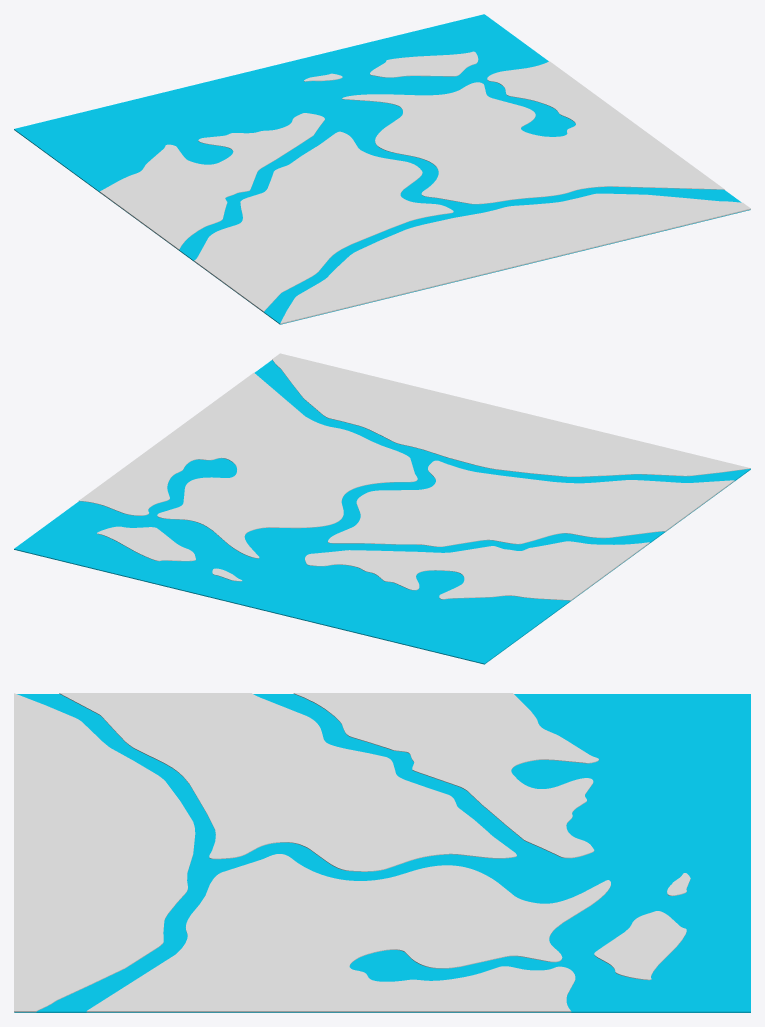
Rendered from coast-v2.gltf.
3 views of the same model, one above another, from view 1: azimuth 30°, elevation 25°; view 2: azimuth 150°, elevation 25°; view 3: azimuth 270°, elevation 25° (orthographic). The views are drawn at different scales.
Parts seen in each view (by area): view 1: sea, Extrude2, Extrude6, Extrude3, Extrude1, Extrude4; view 2: sea, Extrude2, Extrude6, Extrude3, Extrude1, Extrude4; view 3: sea, Extrude2, Extrude6, Extrude3, Extrude1, Extrude4.
Part boxes in pixels (box(x1,y1,x2,y2)): sea: box(14, 14, 750, 324); Extrude2: box(342, 61, 724, 204); Extrude6: box(280, 193, 750, 324); Extrude3: box(194, 131, 453, 312); Extrude1: box(100, 113, 324, 249); Extrude4: box(370, 51, 478, 77); sea: box(14, 360, 750, 664); Extrude2: box(79, 373, 417, 558); Extrude6: box(272, 353, 750, 476); Extrude3: box(328, 460, 734, 546); Extrude1: box(305, 541, 649, 600); Extrude4: box(97, 526, 195, 561); sea: box(14, 694, 750, 1012); Extrude2: box(86, 854, 610, 1012); Extrude6: box(14, 693, 195, 1012); Extrude3: box(59, 693, 516, 871); Extrude1: box(293, 693, 598, 858); Extrude4: box(594, 911, 686, 980).
Size of the model in its own units: 5.1 by 0.015 by 5.
